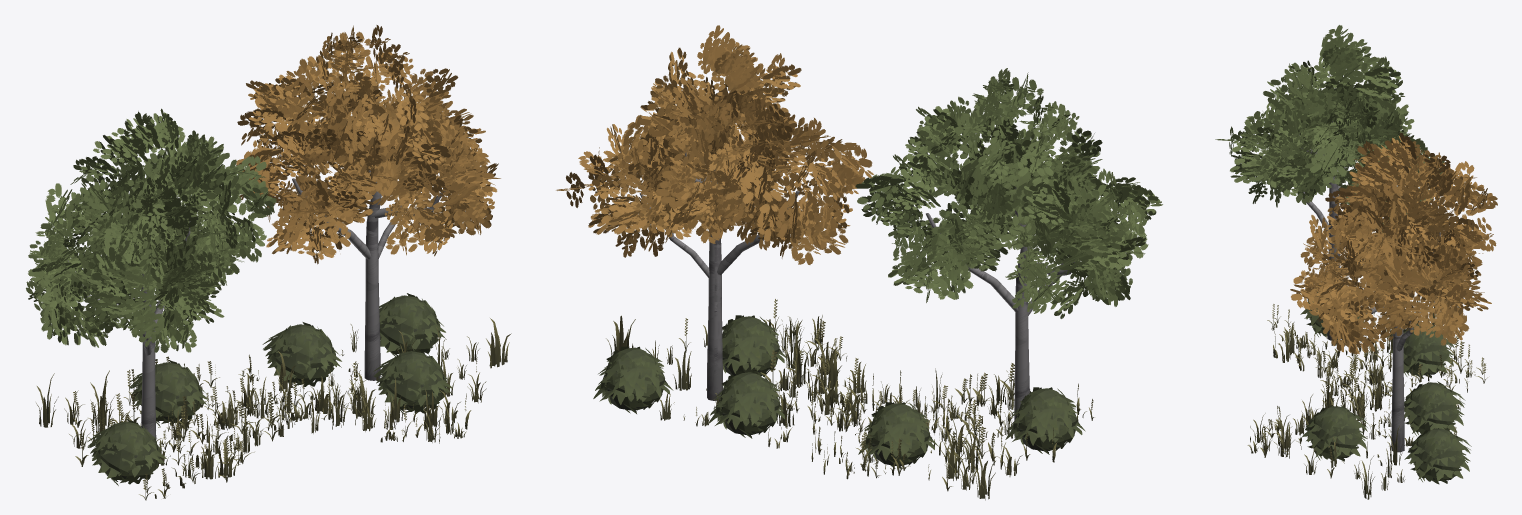
File: forest.fbx
The picture shows the model from 3 angles, left to right: view 1: azimuth 30°, elevation 25°; view 2: azimuth 150°, elevation 25°; view 3: azimuth 270°, elevation 25°; orthographic projection. The views are drawn at different scales.
Parts seen in each view (by area): view 1: forest; view 2: forest; view 3: forest.
Part boxes in pixels (x1,y1,x2,y2): forest: [26, 25, 511, 500]; forest: [556, 25, 1162, 500]; forest: [1215, 25, 1497, 499].
Size of the model in its own units: 146 by 103 by 85.42.
